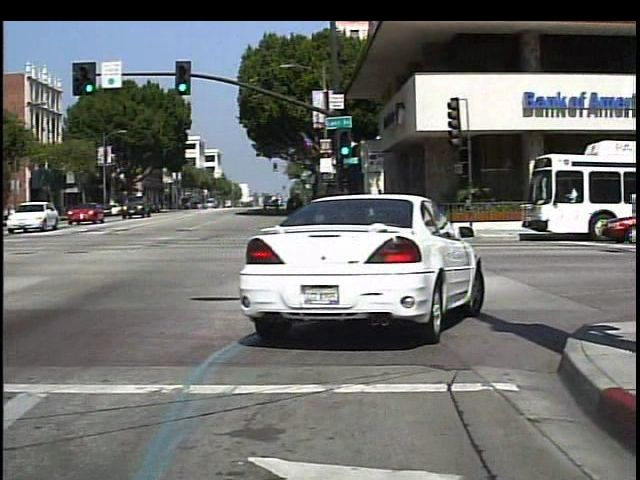person: (371, 182, 390, 223)
